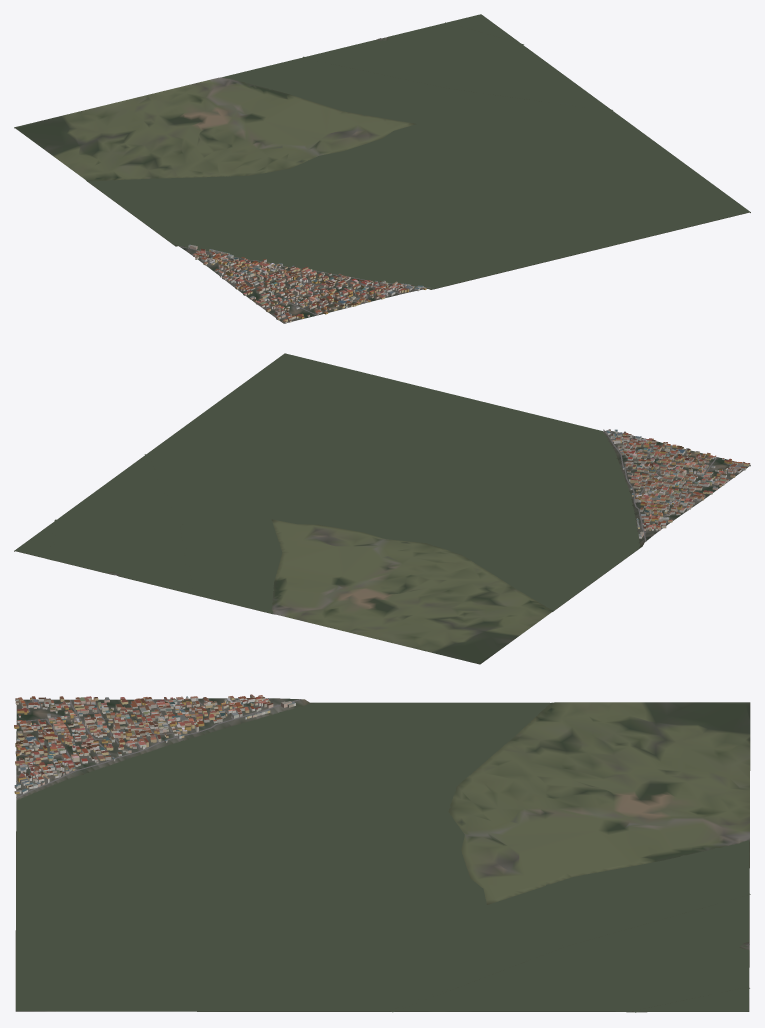
3 renders of one model, top to bottom at view 1: azimuth 30°, elevation 25°; view 2: azimuth 150°, elevation 25°; view 3: azimuth 270°, elevation 25°, orthographic. The views are drawn at different scales.
Visible parts, largest first — view 1: water, ground, buildings; view 2: water, ground, buildings, roads; view 3: water, ground, buildings, roads.
Boxes of the visible parts, x1=… form: water: x1=88, y1=14, x2=749, y2=289; ground: x1=14, y1=19, x2=750, y2=323; buildings: x1=188, y1=244, x2=426, y2=323; water: x1=15, y1=353, x2=639, y2=613; ground: x1=14, y1=356, x2=750, y2=664; buildings: x1=606, y1=429, x2=750, y2=538; roads: x1=114, y1=429, x2=748, y2=574; water: x1=16, y1=702, x2=750, y2=1012; ground: x1=15, y1=698, x2=750, y2=1012; buildings: x1=14, y1=694, x2=295, y2=794; roads: x1=16, y1=698, x2=749, y2=945.
Bounding box in the file's own units: 1409 × 21.96 × 1408.
